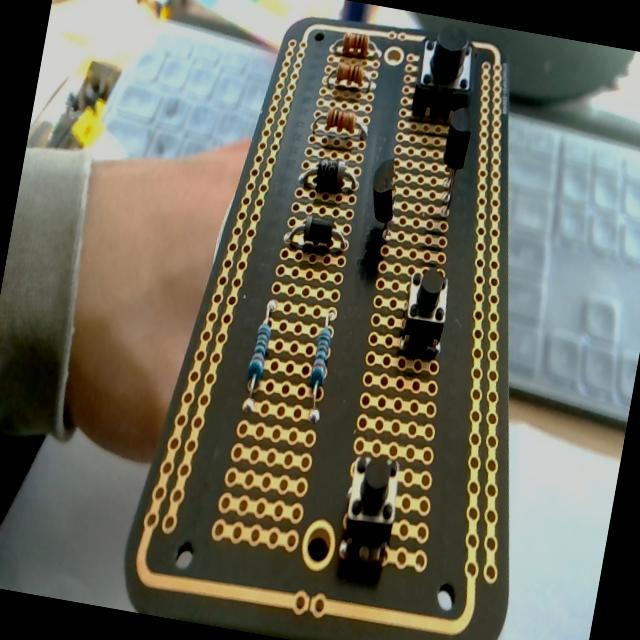diode: (284, 208, 350, 256), (297, 152, 361, 194)
resistor: (241, 294, 280, 412), (302, 307, 339, 421), (309, 98, 371, 147), (327, 63, 374, 95), (332, 30, 378, 60)
switch: (335, 448, 406, 568), (408, 28, 478, 126), (396, 262, 454, 361)
transistor: (432, 107, 474, 215), (363, 151, 404, 227)
